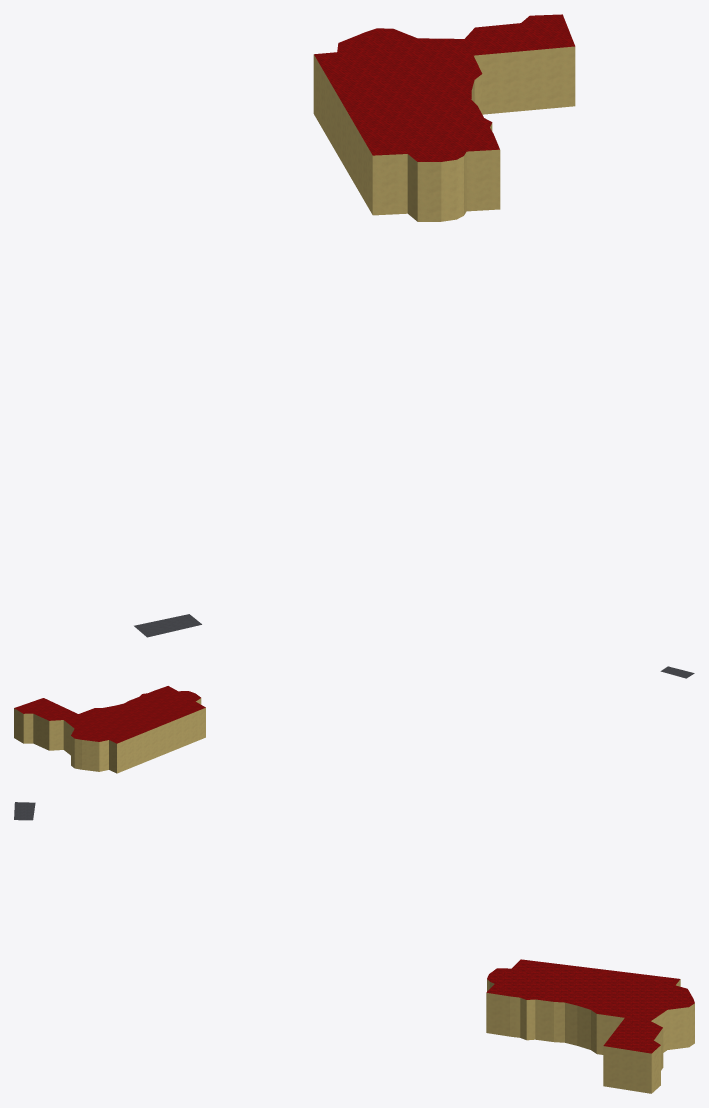
The model's file is district_2_-3.glb.
The picture shows the model from 3 angles, top to bottom: view 1: azimuth 30°, elevation 25°; view 2: azimuth 150°, elevation 25°; view 3: azimuth 270°, elevation 25°; orthographic projection. The views are drawn at different scales.
Visible parts, largest first — view 1: Building Мечеть; view 2: Building Мечеть, RoadJunction n498693100; view 3: Building Мечеть.
Boxes of the visible parts, x1=… form: Building Мечеть: x1=313, y1=14, x2=575, y2=221; Building Мечеть: x1=14, y1=686, x2=205, y2=773; RoadJunction n498693100: x1=660, y1=666, x2=694, y2=678; Building Мечеть: x1=486, y1=959, x2=694, y2=1093.
Bounding box in the file's own units: 117 × 7.5 × 115.
3 materials, 3 textured.
